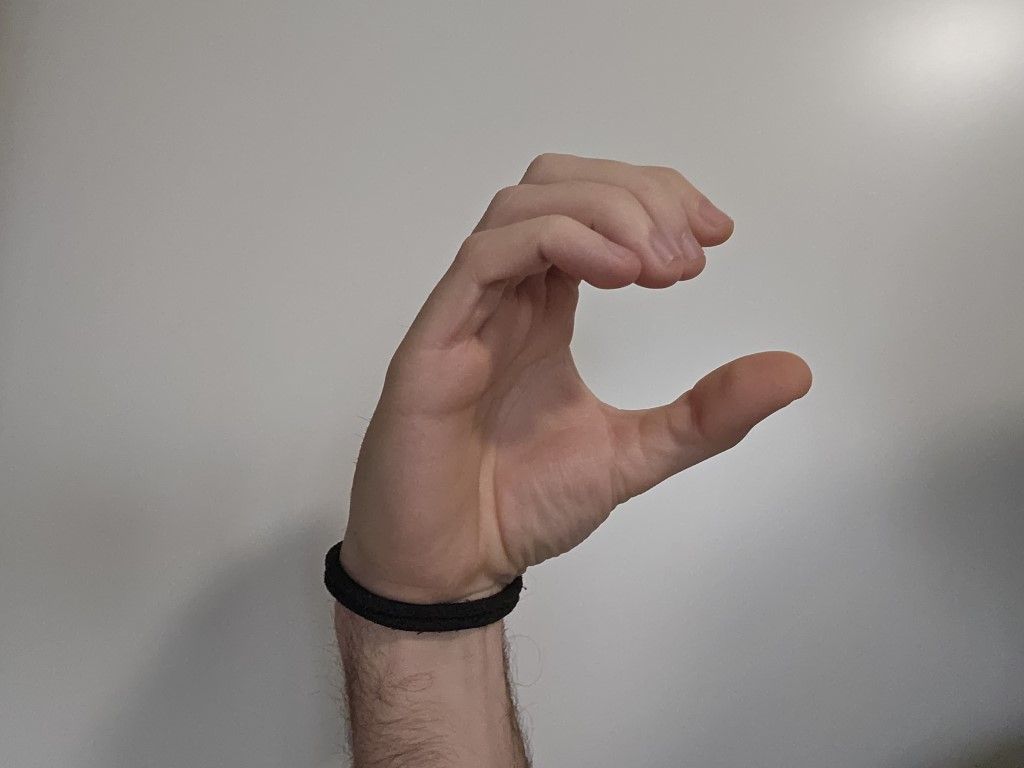c: (290, 101, 858, 566)
